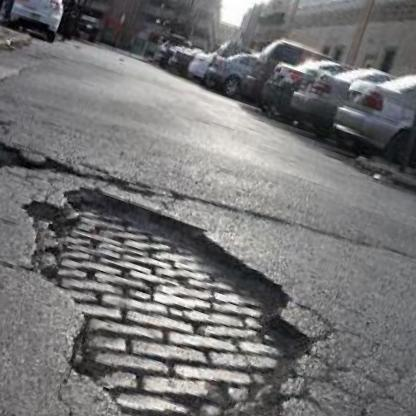pothole: (0, 163, 351, 416), (0, 119, 41, 187)
